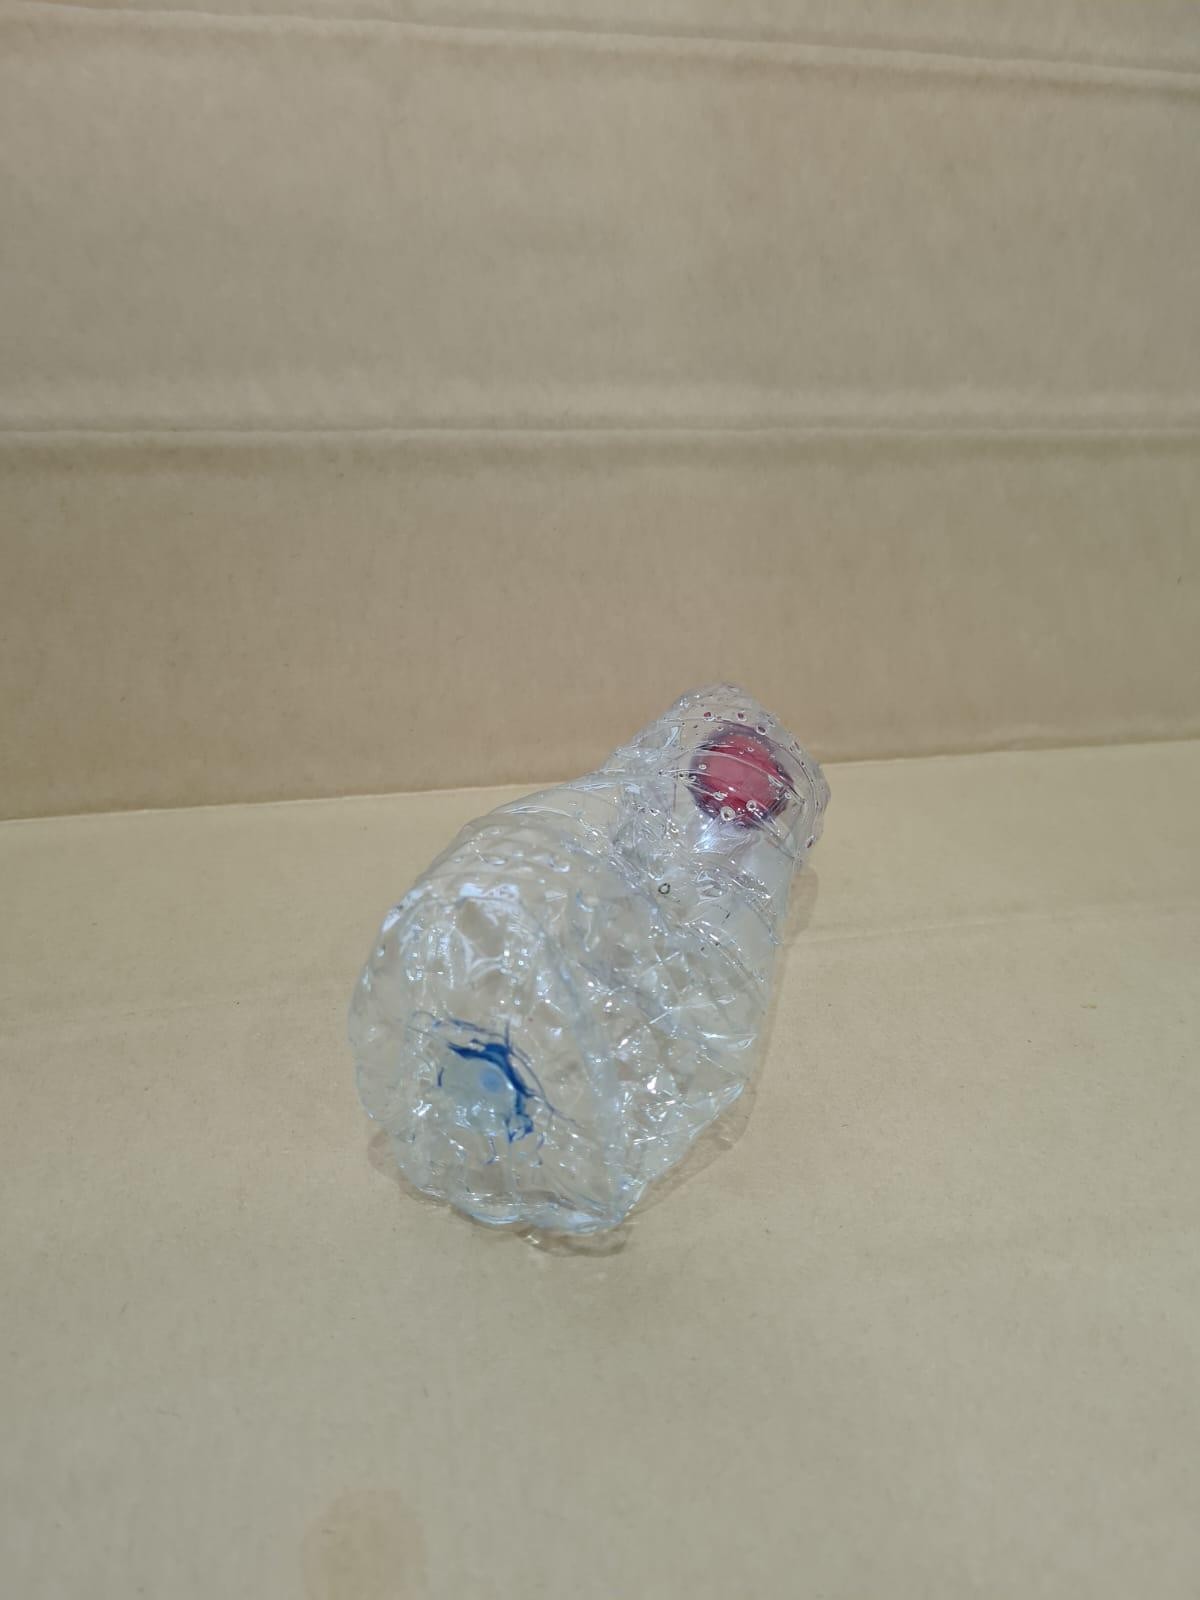bottle: (350, 714, 865, 1247)
